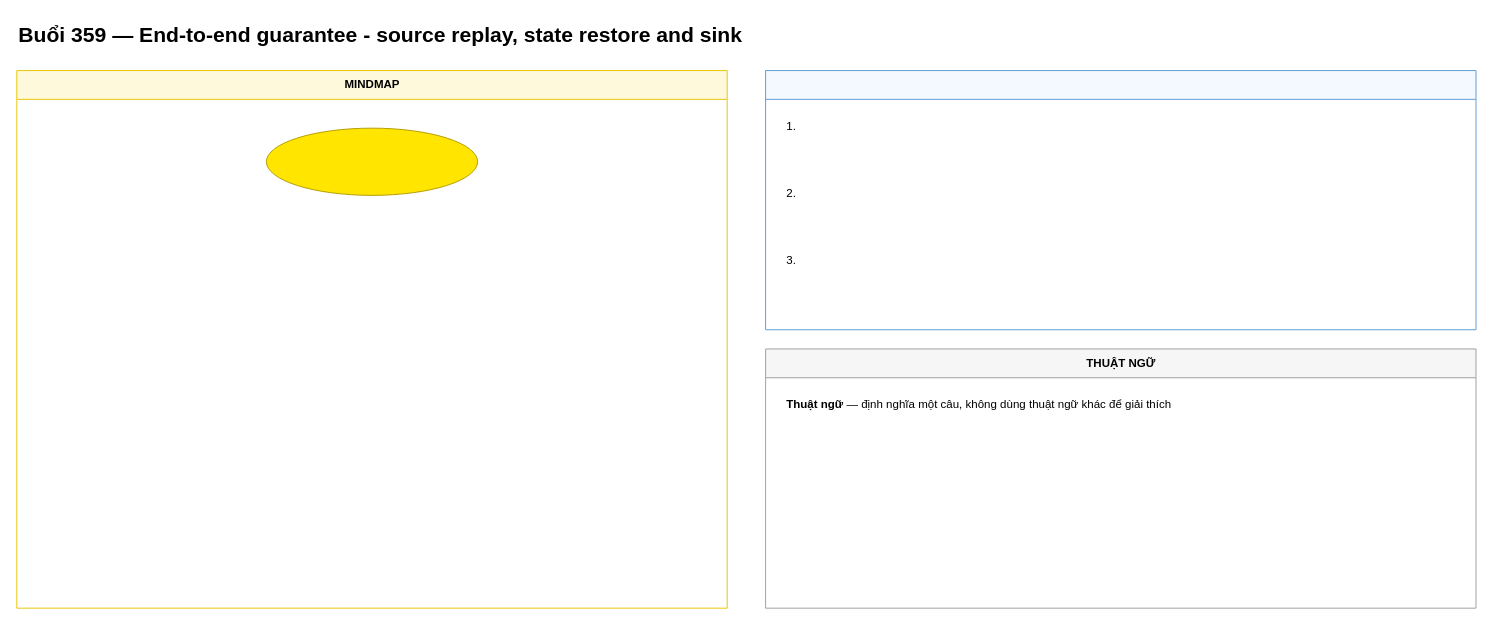
Image size: 1493x625. Some labels were removed from this diagram. The box of each missing label's shape, as (x1, y1, x2, y2) in pixels:
End-to-end guarantee - source replay, state restore and sink: (265, 127, 478, 195)
KEY TAKEAWAY — ba điều phải nhớ: (765, 70, 1476, 330)
